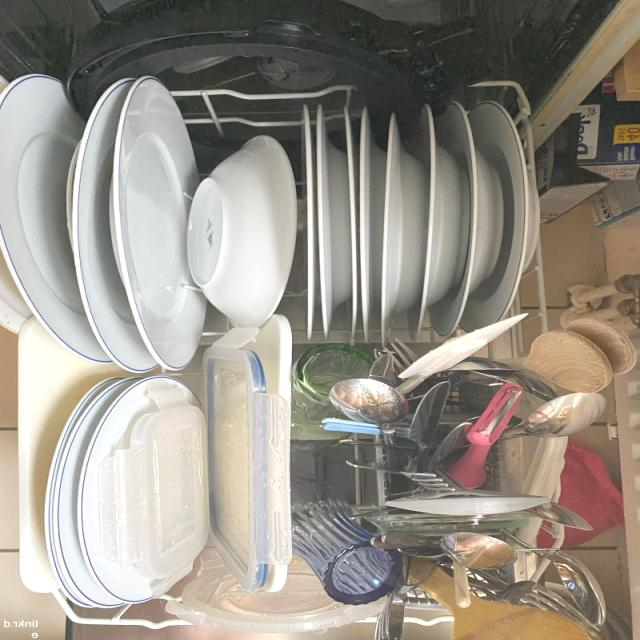clutery_bin: (382, 318, 602, 598)
